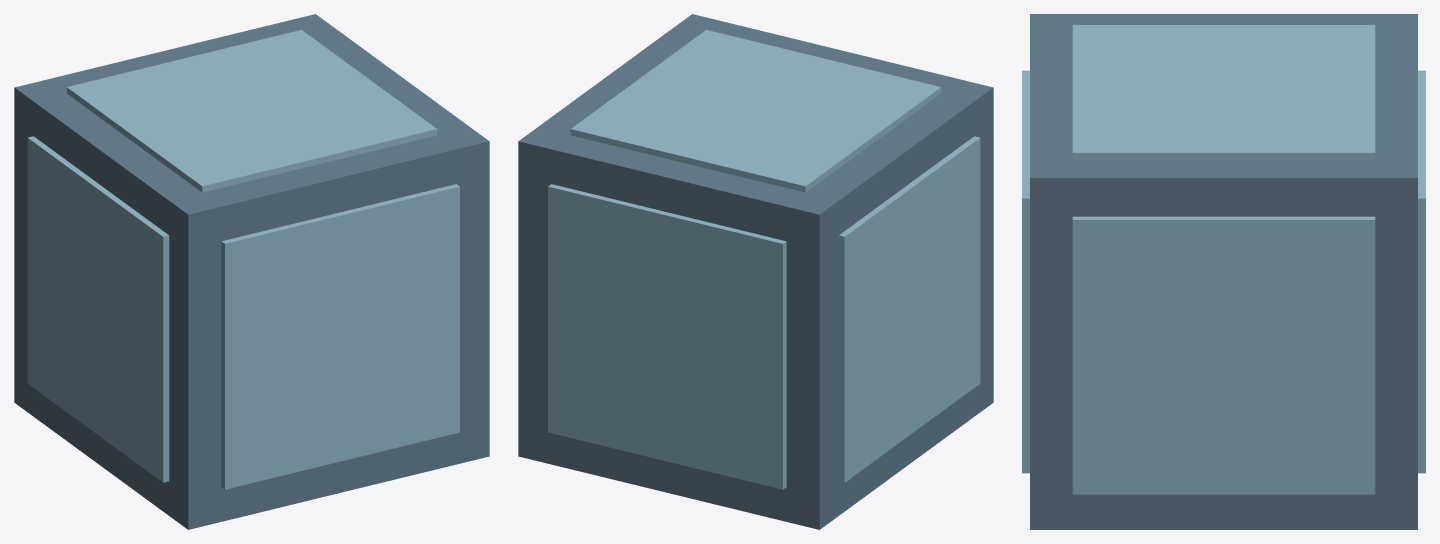
The model's file is block_glass.glb.
3 renders of one model, left to right at view 1: azimuth 30°, elevation 25°; view 2: azimuth 150°, elevation 25°; view 3: azimuth 270°, elevation 25°, orthographic. The views are drawn at different scales.
Visible parts, largest first — view 1: block_glass; view 2: block_glass; view 3: block_glass.
Boxes of the visible parts, x1=… form: block_glass: x1=14, y1=14, x2=489, y2=529; block_glass: x1=518, y1=14, x2=993, y2=529; block_glass: x1=1022, y1=14, x2=1425, y2=529.
Bounding box in the file's own units: 1.04 × 1.04 × 1.04.
